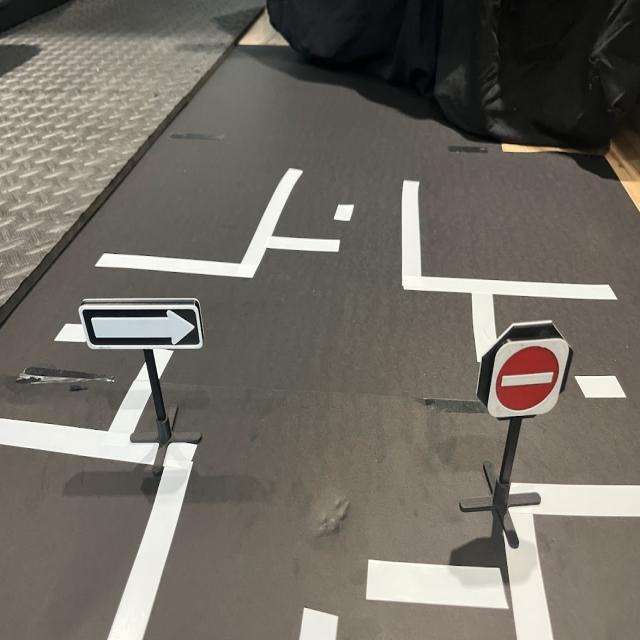sign_noentry: (488, 340, 571, 418)
sign_oneway_right: (77, 294, 206, 350)
